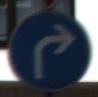turn: (9, 9, 90, 88)
